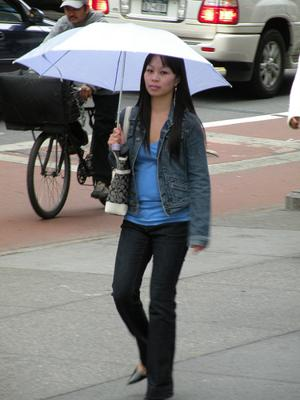person: (108, 54, 211, 400)
